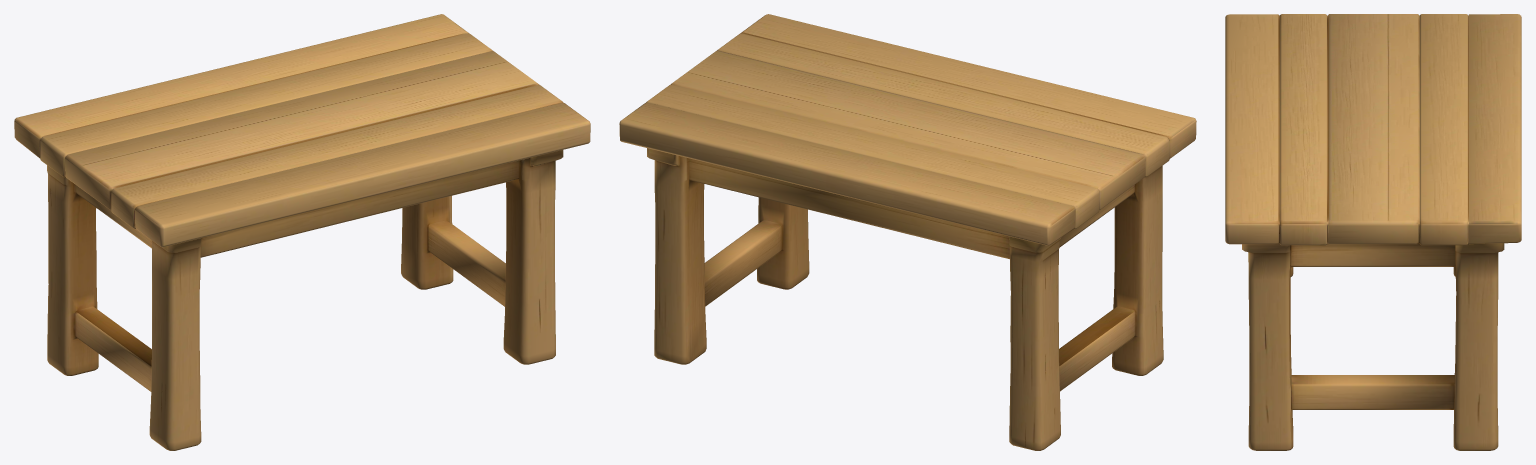
File: workshop_table_15b38270_v2.glb
The picture shows the model from 3 angles, left to right: view 1: azimuth 30°, elevation 25°; view 2: azimuth 150°, elevation 25°; view 3: azimuth 270°, elevation 25°; orthographic projection.
Visible parts, largest first — view 1: mesh_input; view 2: mesh_input; view 3: mesh_input.
Boxes of the visible parts, <box> form: mesh_input: <box>14,14,590,450</box>; mesh_input: <box>619,14,1196,450</box>; mesh_input: <box>1225,14,1521,450</box>.
Size of the model in its own units: 1.89 by 1.01 by 1.13.
Materials: 1 (1 with a texture image).
